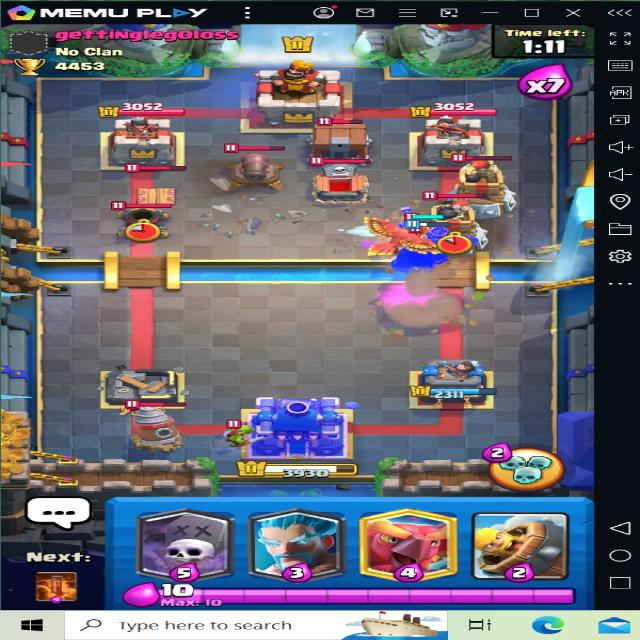bomb-tower: (422, 186, 492, 254), (449, 153, 522, 214)
cannon: (216, 139, 298, 194)
goblin: (216, 419, 256, 449)
goblin-cage: (300, 113, 377, 162)
goblin-drill: (110, 398, 193, 450)
mortar: (106, 195, 174, 243)
tesla-closed: (123, 156, 187, 208)
tombstone: (308, 153, 376, 200)
